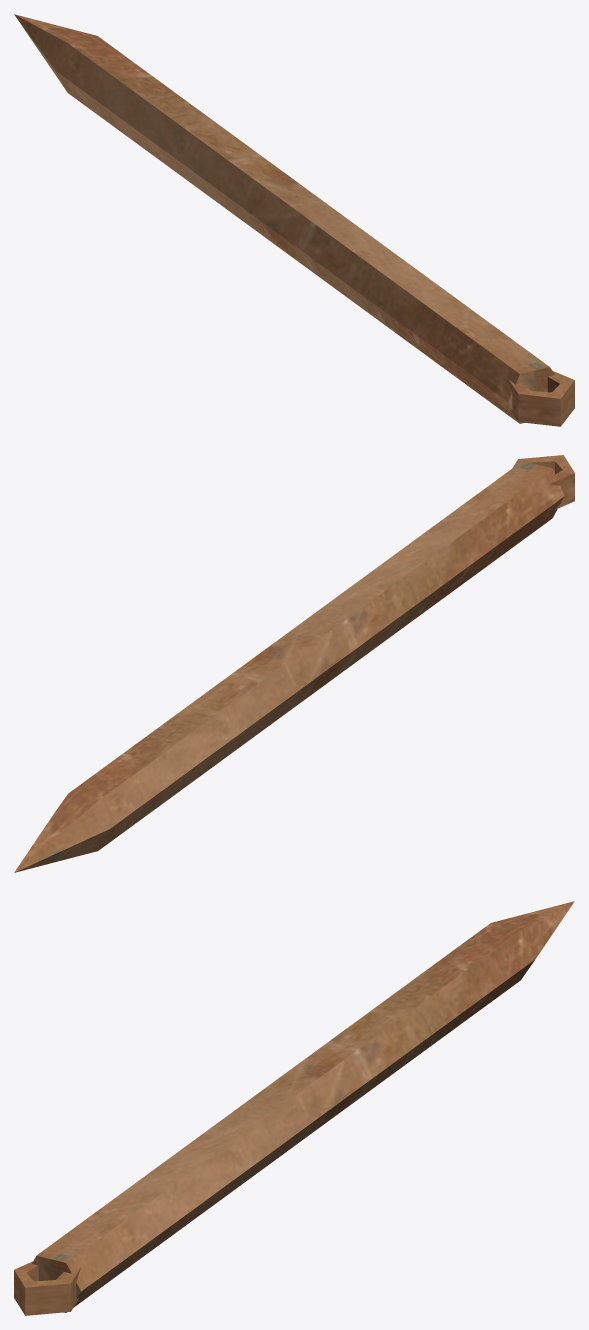
The model's file is copperbolt.gltf.
3 views of the same model, one above another, from view 1: azimuth 30°, elevation 25°; view 2: azimuth 150°, elevation 25°; view 3: azimuth 330°, elevation 25° (orthographic).
Visible parts, largest first — view 1: bolt; view 2: bolt; view 3: bolt.
Boxes of the visible parts, <box> form: bolt: <box>14,14,574,426</box>; bolt: <box>14,455,574,872</box>; bolt: <box>14,901,574,1315</box>.
Bounding box in the file's own units: 0.019 × 0.016 × 0.318.
1 material, 1 textured.
